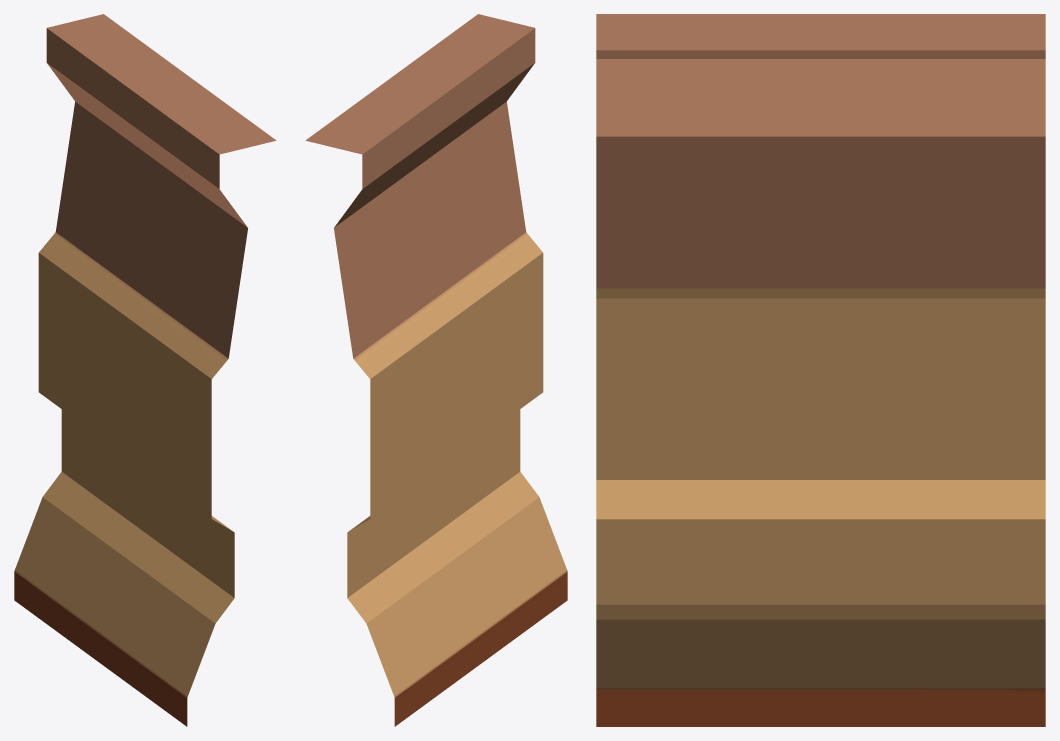
File: ct01_sm_wall_002.FBX
3 renders of one model, left to right at view 1: azimuth 30°, elevation 25°; view 2: azimuth 150°, elevation 25°; view 3: azimuth 270°, elevation 25°, orthographic. The views are drawn at different scales.
Visible parts, largest first — view 1: ct01_sm_wall_002; view 2: ct01_sm_wall_002; view 3: ct01_sm_wall_002.
Boxes of the visible parts, <box> form: ct01_sm_wall_002: <box>14,14,276,726</box>; ct01_sm_wall_002: <box>305,14,567,726</box>; ct01_sm_wall_002: <box>596,14,1045,726</box>.
Size of the model in its own units: 74.68 by 450 by 250.
